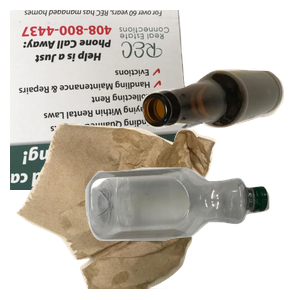glass: (140, 67, 300, 188)
paper: (10, 10, 201, 190)
plastic: (83, 165, 300, 300)
trash: (14, 120, 222, 300)
